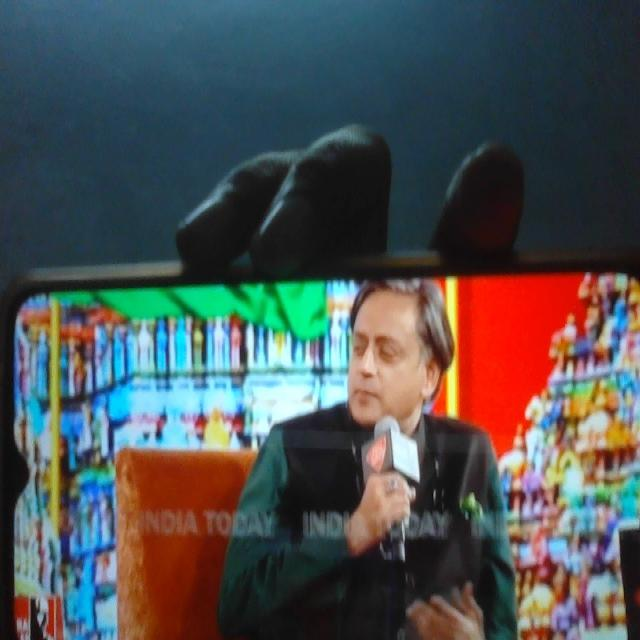fake: (335, 243, 446, 453)
